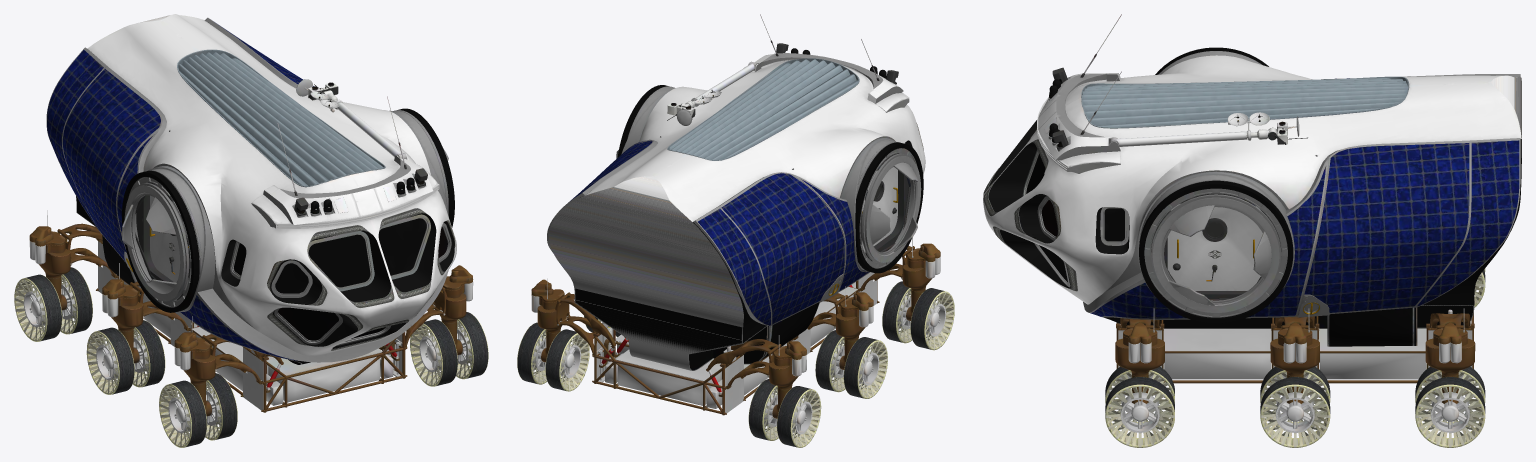
Rendered from sev.glb.
The picture shows the model from 3 angles, left to right: view 1: azimuth 30°, elevation 25°; view 2: azimuth 150°, elevation 25°; view 3: azimuth 270°, elevation 25°; orthographic projection. The views are drawn at different scales.
Parts seen in each view (by area): view 1: MMSEV; view 2: MMSEV; view 3: MMSEV.
Part boxes in pixels (box(x1,y1,x2,y2)): MMSEV: box(14, 14, 488, 447); MMSEV: box(517, 14, 954, 447); MMSEV: box(983, 14, 1521, 447).
Bounding box in the file's own units: 4.04 × 3.97 × 5.91.
1 material, 1 textured.
